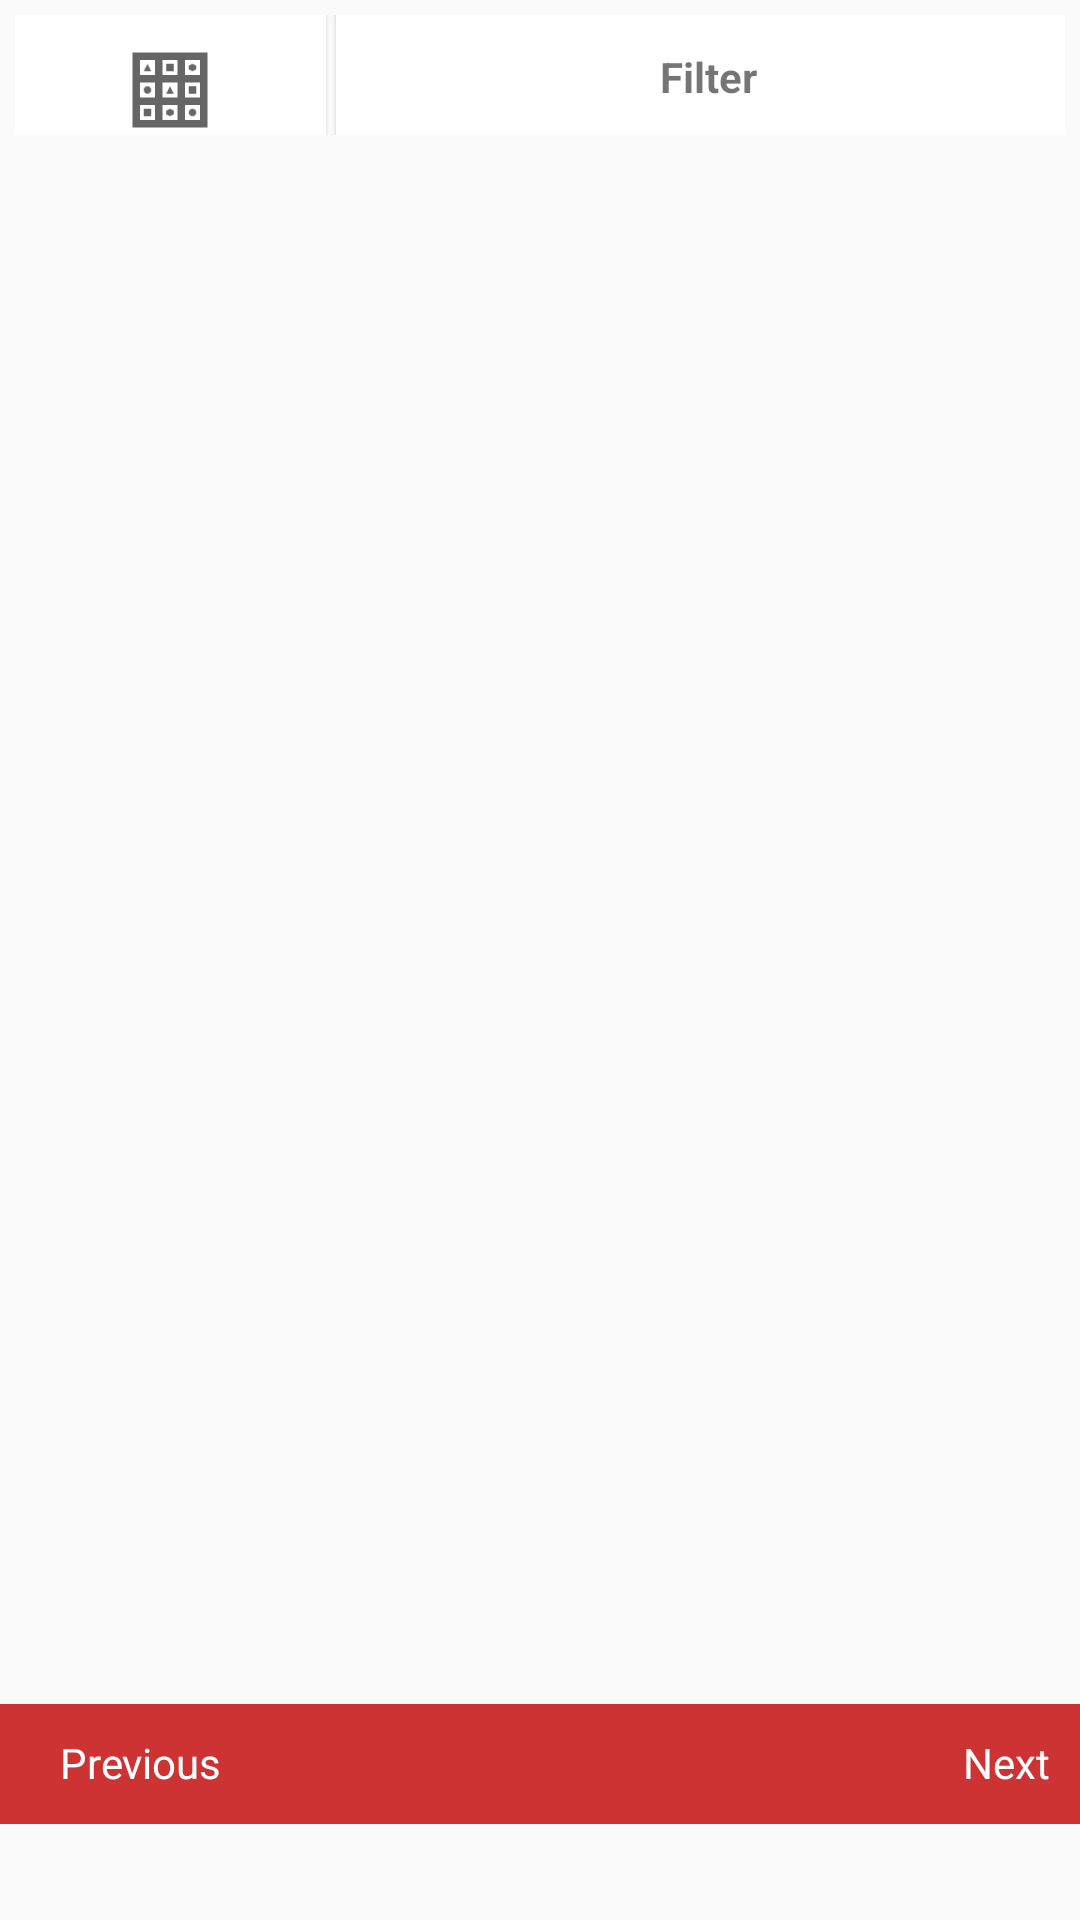

Screen size 1080x1920. Icon name, then its center in pixels as [x,y]:
grid: [170,90]
